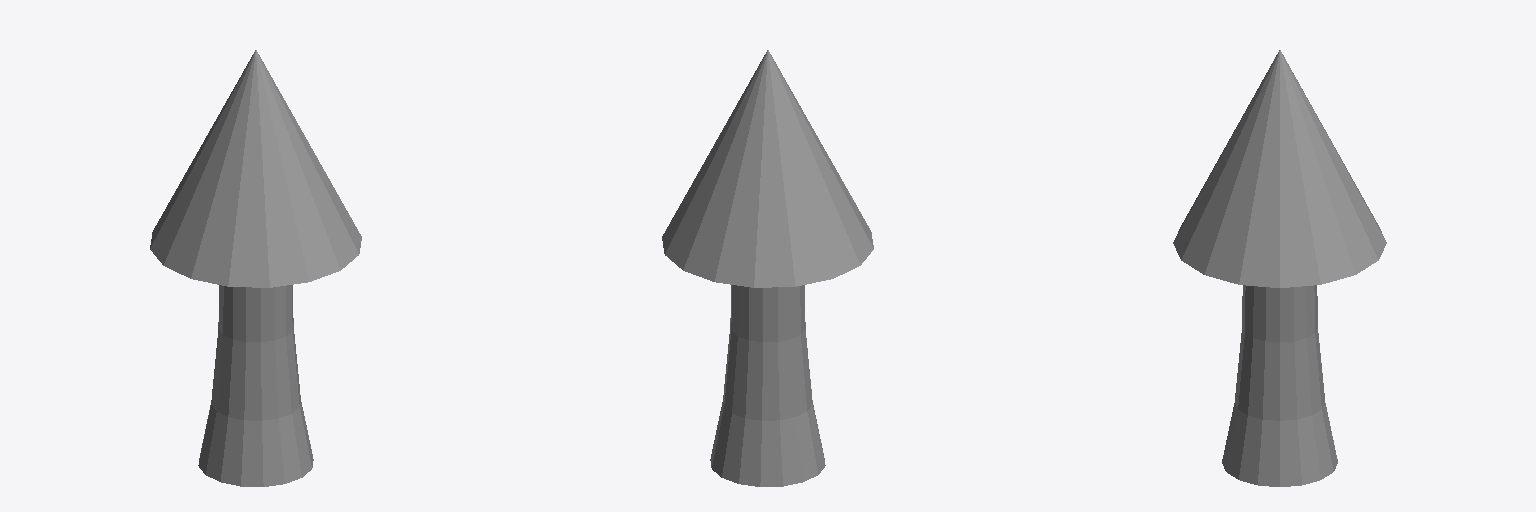
The model's file is arrow.obj.
The picture shows the model from 3 angles: view 1: azimuth 30°, elevation 25°; view 2: azimuth 150°, elevation 25°; view 3: azimuth 270°, elevation 25°; orthographic projection.
Parts seen in each view (by area): view 1: Cylinder; view 2: Cylinder; view 3: Cylinder.
Part boxes in pixels (x1,y1,x2,y2): Cylinder: (150,50,361,486); Cylinder: (662,50,873,486); Cylinder: (1173,50,1386,486).
Bounding box in the file's own units: 0.7952 × 1.7 × 0.7952.